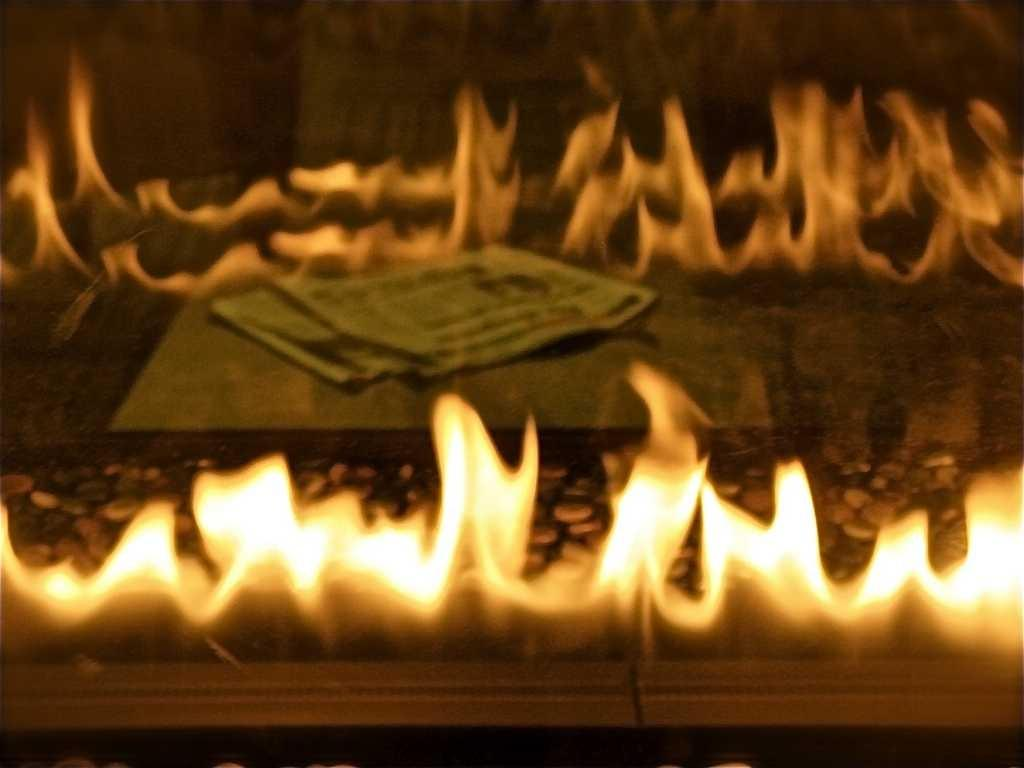fire: (442, 462, 508, 606), (188, 474, 292, 562), (712, 512, 818, 586), (980, 518, 1020, 622), (622, 494, 664, 586), (114, 536, 176, 590), (366, 542, 426, 584)
